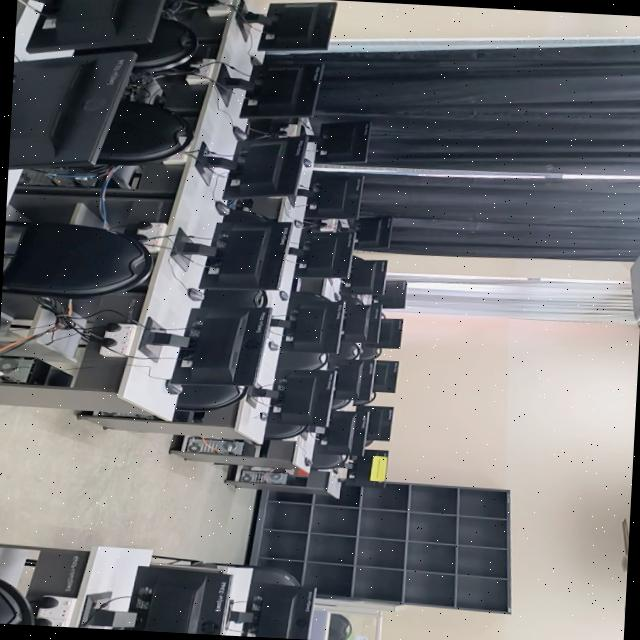Chair: (1, 224, 149, 298), (104, 99, 191, 168), (148, 21, 205, 68), (0, 580, 50, 626), (184, 384, 248, 415), (206, 289, 268, 309), (279, 353, 327, 371), (263, 425, 308, 442), (307, 454, 348, 472), (338, 342, 360, 360), (172, 0, 228, 5)
Cpu: (0, 355, 71, 385), (182, 440, 256, 458), (228, 470, 299, 487)
Monitor: (7, 45, 138, 179), (77, 565, 240, 636), (138, 303, 270, 387), (168, 215, 290, 294), (206, 132, 306, 203), (14, 0, 160, 43), (233, 58, 326, 122), (222, 586, 316, 640), (252, 0, 336, 56), (272, 367, 328, 428), (287, 300, 342, 353), (309, 171, 363, 222), (315, 119, 371, 164), (300, 228, 350, 276), (324, 408, 361, 456), (328, 358, 364, 400), (340, 304, 376, 342), (355, 215, 393, 251), (349, 258, 384, 295), (354, 448, 386, 488), (373, 316, 408, 351), (362, 406, 390, 442), (370, 356, 394, 394), (384, 279, 406, 308)
Mouse: (158, 379, 187, 396), (207, 200, 236, 217), (228, 125, 252, 141), (181, 287, 206, 302), (290, 218, 308, 232), (264, 339, 279, 354), (276, 288, 291, 302)
